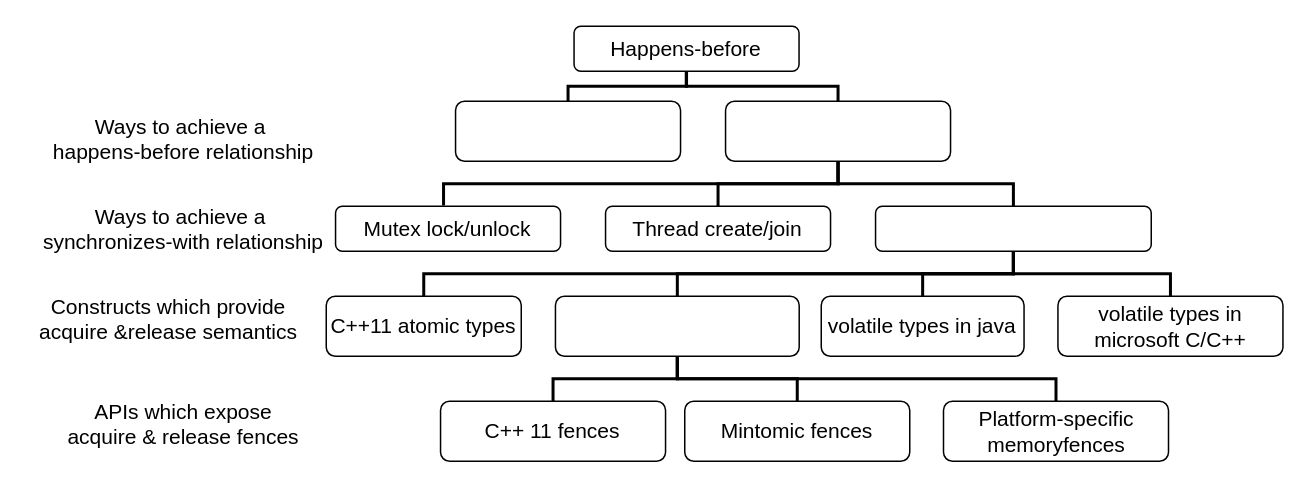
The diagram is 1310 pixels wide and 488 high, and some of its shapes have lost their labels. The shapes that lost their labels are listed below. From the top down, each one's centre as x and y in pixels, then its label:
At point 567,130: "Program order (within a single thread)".
At point 837,130: "Synchronizes-with (Between threads)".
At point 1012,228: "Acquire& release semantics".
At point 676,325: "Acquire &release fences".
